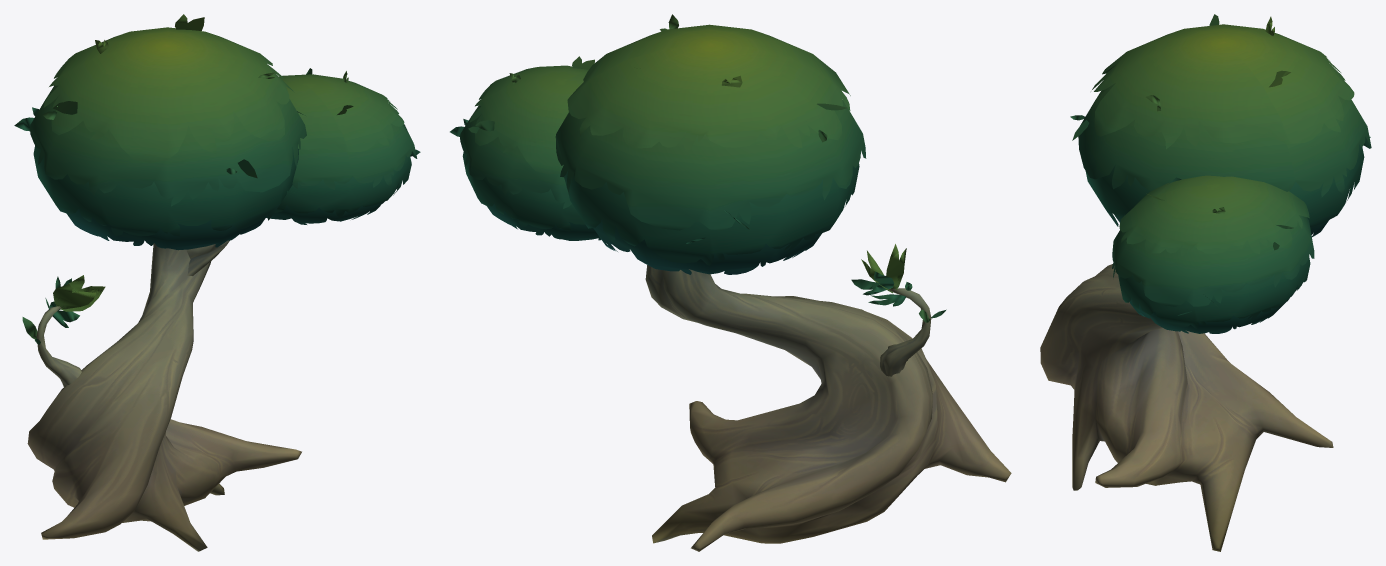
File: Tree.fbx
The picture shows the model from 3 angles, left to right: view 1: azimuth 30°, elevation 25°; view 2: azimuth 150°, elevation 25°; view 3: azimuth 270°, elevation 25°; orthographic projection. The views are drawn at different scales.
Parts seen in each view (by area): view 1: SM_Env_Skyland_Tree_Large_01; view 2: SM_Env_Skyland_Tree_Large_01; view 3: SM_Env_Skyland_Tree_Large_01.
Boxes of the visible parts, x1,y1,x2,y2 form: SM_Env_Skyland_Tree_Large_01: (14, 14, 420, 551); SM_Env_Skyland_Tree_Large_01: (450, 14, 1011, 551); SM_Env_Skyland_Tree_Large_01: (1040, 14, 1371, 551).
Size of the model in its own units: 730 by 742 by 461.
